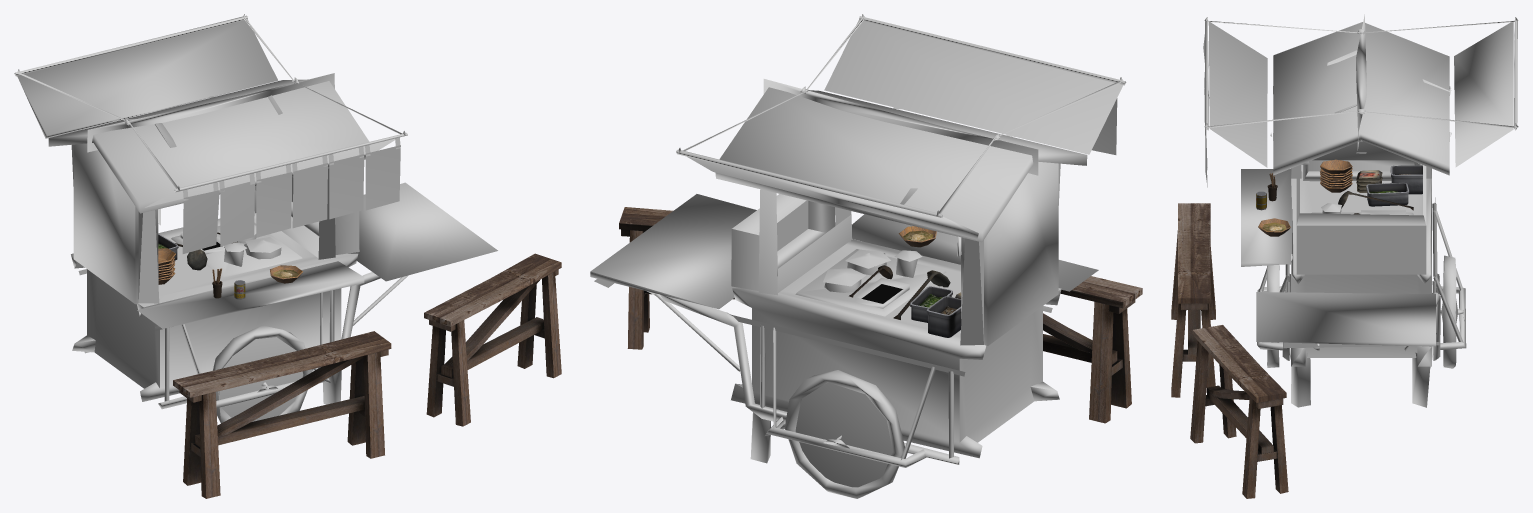
Rendered from ramenfbx.fbx.
3 views of the same model, side by side, from view 1: azimuth 30°, elevation 25°; view 2: azimuth 150°, elevation 25°; view 3: azimuth 270°, elevation 25° (orthographic). The views are drawn at different scales.
Parts seen in each view (by area): view 1: SM_Yatai, SM_Yatai-bench, SM_yatai-bench2, SM_yatai-props; view 2: SM_Yatai, SM_Yatai-bench, SM_yatai-props, SM_yatai-bench2; view 3: SM_Yatai, SM_yatai-bench2, SM_Yatai-bench, SM_yatai-props.
Boxes of the visible parts, bbox=[...] form: SM_Yatai: bbox=[14, 14, 497, 423]; SM_Yatai-bench: bbox=[173, 331, 391, 498]; SM_yatai-bench2: bbox=[424, 253, 561, 426]; SM_yatai-props: bbox=[158, 232, 302, 299]; SM_Yatai: bbox=[590, 14, 1126, 498]; SM_Yatai-bench: bbox=[1043, 276, 1142, 423]; SM_yatai-props: bbox=[849, 226, 961, 337]; SM_yatai-bench2: bbox=[619, 207, 734, 349]; SM_Yatai: bbox=[1203, 14, 1518, 407]; SM_yatai-bench2: bbox=[1190, 325, 1288, 498]; SM_Yatai-bench: bbox=[1171, 203, 1215, 397]; SM_yatai-props: bbox=[1256, 159, 1422, 236].
Bounding box in the file's own units: 818 × 568 × 609.
